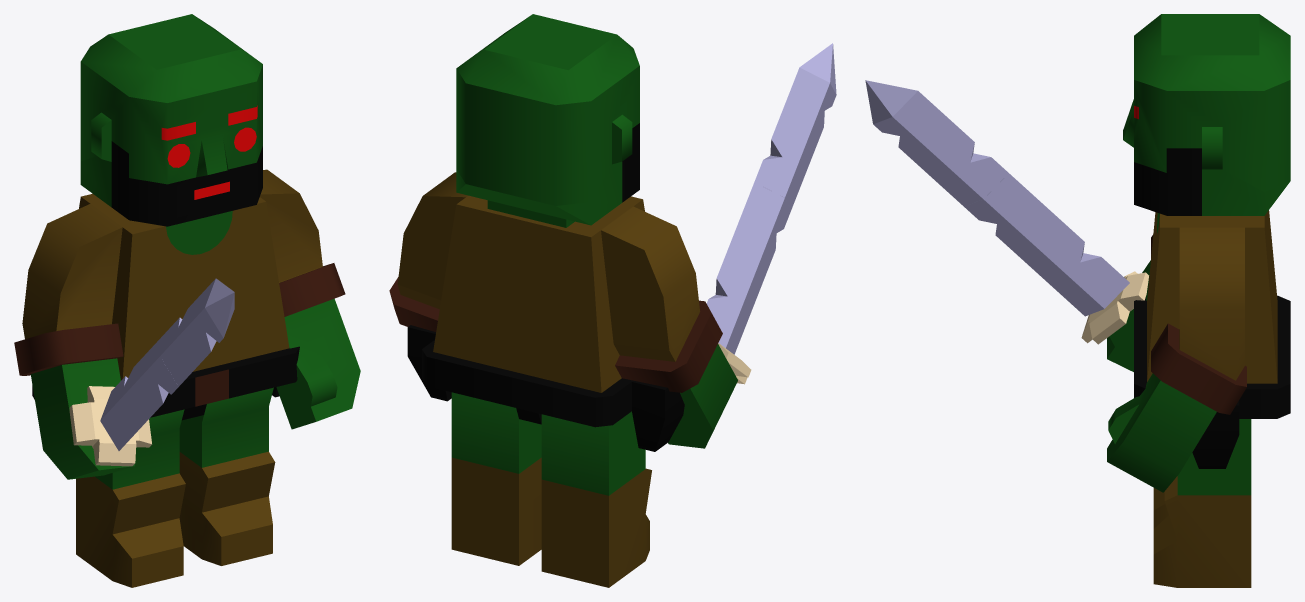
Rendered from Enemy2.fbx.
3 views of the same model, side by side, from view 1: azimuth 30°, elevation 25°; view 2: azimuth 150°, elevation 25°; view 3: azimuth 270°, elevation 25° (orthographic).
Visible parts, largest first — view 1: mergedBlocks; view 2: mergedBlocks; view 3: mergedBlocks.
Boxes of the visible parts, x1,y1,x2,y2 form: mergedBlocks: [14, 14, 360, 587]; mergedBlocks: [389, 14, 836, 587]; mergedBlocks: [865, 14, 1290, 587].
Size of the model in its own units: 5.4 by 8.7 by 6.52.
